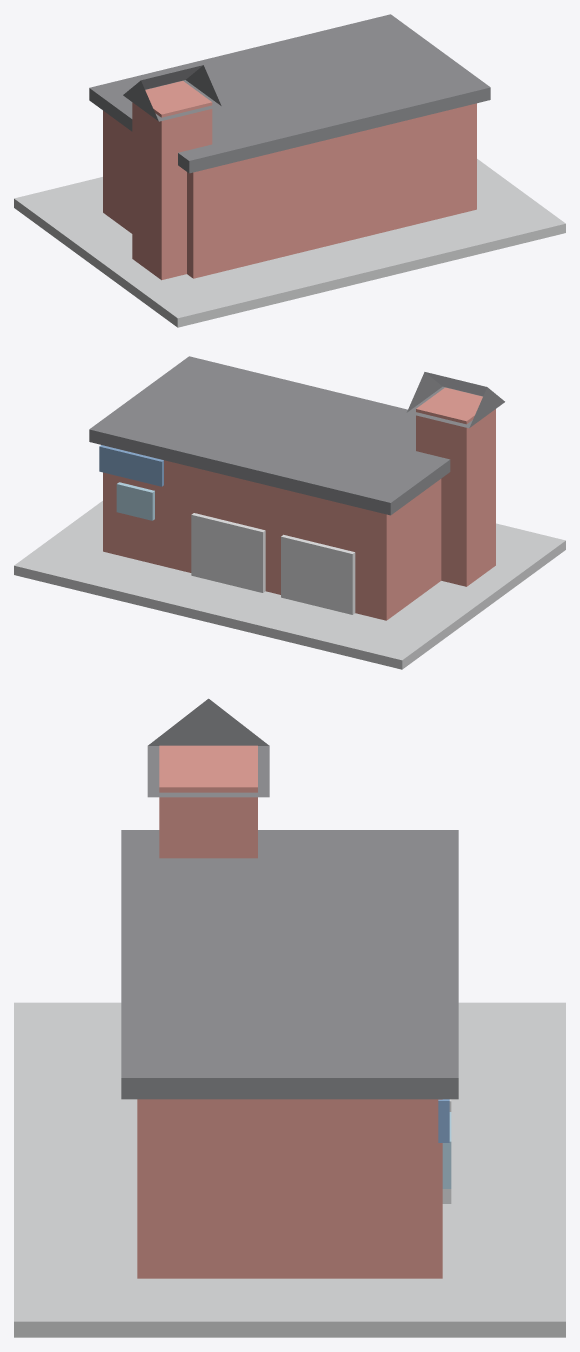
Rendered from fire_station.glb.
3 views of the same model, one above another, from view 1: azimuth 30°, elevation 25°; view 2: azimuth 150°, elevation 25°; view 3: azimuth 270°, elevation 25° (orthographic). The views are drawn at different scales.
Visible parts, largest first — view 1: main, roof, base, tower, tower_roof; view 2: roof, base, main, tower, garage_1, garage_2, tower_roof, sign, window; view 3: base, roof, main, tower, tower_roof.
Part boxes in pixels (x1,y1,x2,y2): main: (103, 103, 476, 278); roof: (89, 14, 490, 173); base: (14, 159, 565, 327); tower: (132, 81, 212, 280); tower_roof: (123, 65, 221, 121); roof: (89, 356, 450, 515); base: (14, 501, 565, 669); main: (103, 460, 441, 620); tower: (416, 387, 495, 586); garage_1: (281, 534, 355, 614); garage_2: (191, 513, 265, 592); tower_roof: (406, 372, 504, 428); sign: (99, 445, 163, 486); window: (116, 482, 154, 520); base: (14, 1002, 565, 1337); roof: (121, 830, 458, 1099); main: (137, 1099, 442, 1278); tower: (159, 745, 257, 858); tower_roof: (147, 698, 269, 797).
Bounding box in the file's own units: 2.6 × 1.28 × 1.9.
